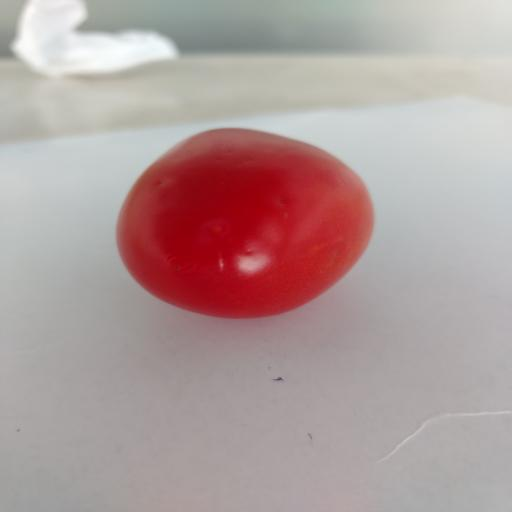ripe: (117, 129, 373, 318)
